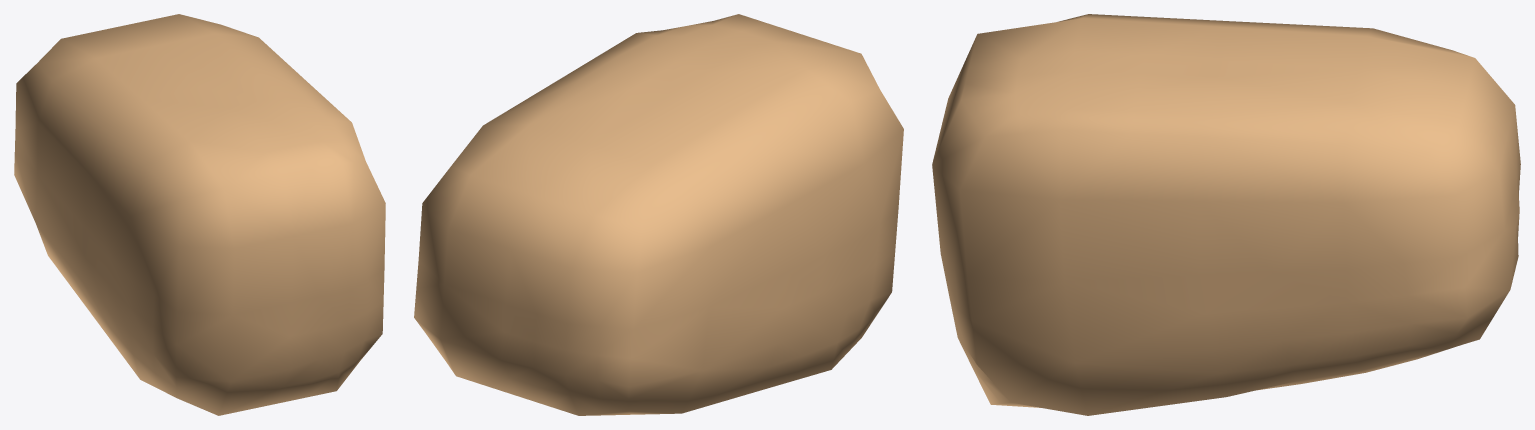
File: index_01_r.dae
3 views of the same model, side by side, from view 1: azimuth 30°, elevation 25°; view 2: azimuth 150°, elevation 25°; view 3: azimuth 270°, elevation 25° (orthographic). The views are drawn at different scales.
Visible parts, largest first — view 1: skin_geo_index_01_r; view 2: skin_geo_index_01_r; view 3: skin_geo_index_01_r.
Part boxes in pixels (box(x1,y1,x2,y2)): skin_geo_index_01_r: box(14, 14, 385, 415); skin_geo_index_01_r: box(414, 14, 903, 415); skin_geo_index_01_r: box(932, 14, 1520, 415).
Bounding box in the file's own units: 0.0241 × 0.0398 × 0.0242.
